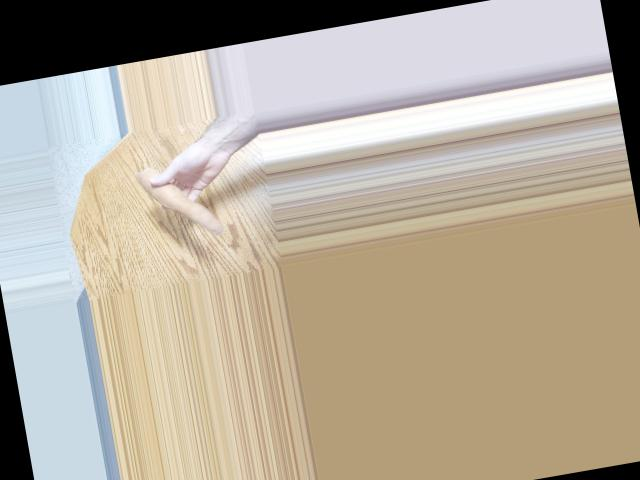sweet_potato: (138, 156, 222, 244)
